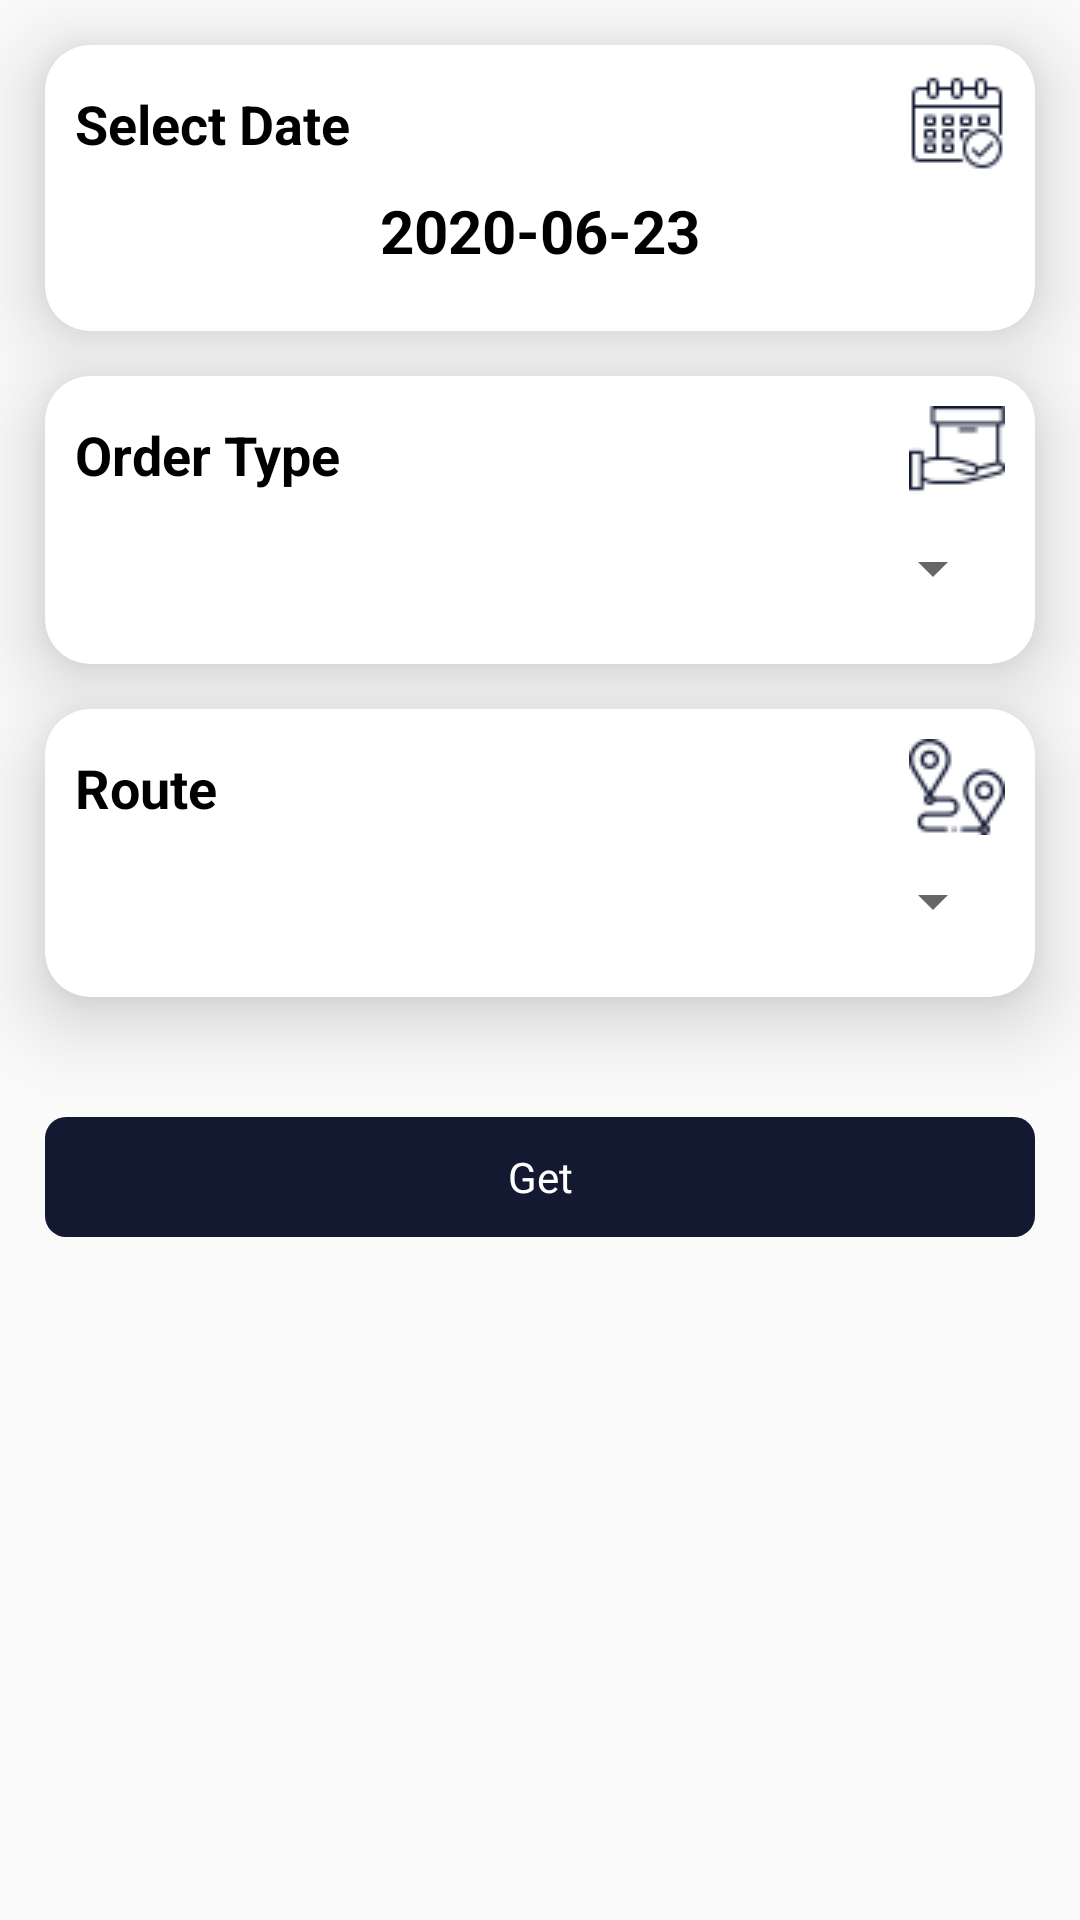

Icon bounding boxes for this 1080w x 1920h phone screenshot, format (x1, y1, x2, y2):
order type: (909, 406, 1005, 491)
route: (909, 739, 1005, 835)
select date: (911, 77, 1003, 169)
